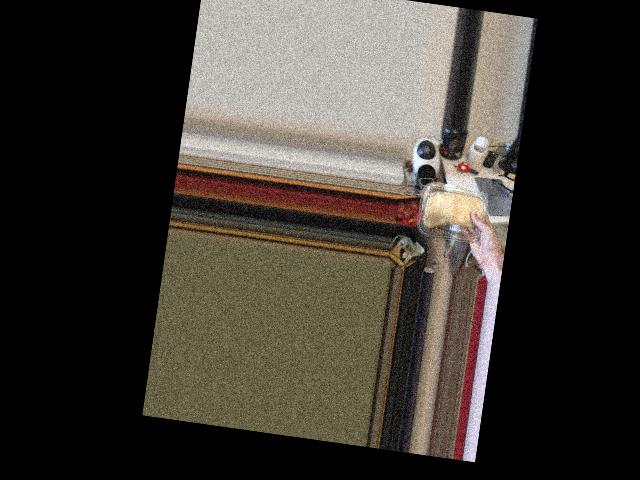cheese: (420, 175, 488, 247)
